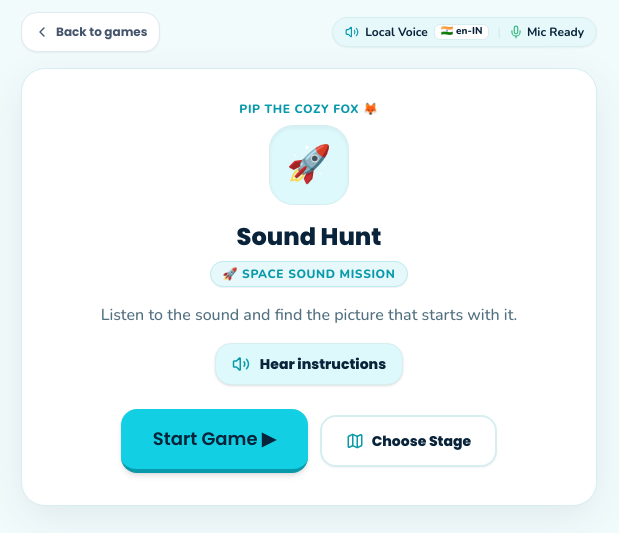
Test: Space Sound Mission (Sound Hunt) — 25-Level Game Suite › 5. selecting an incorrect answer shows retry feedback and does not award a point
Click the button "Start Game ▶".
click(214, 441)  # box [121,409,308,473]
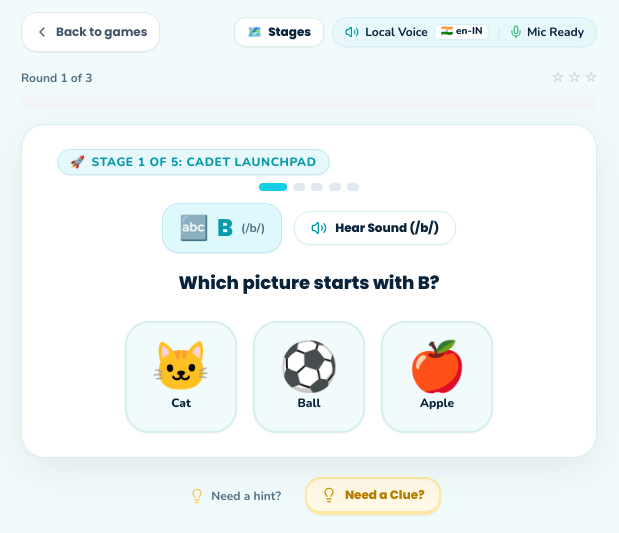
Note: Click the incorrect choice 'Cat'
Click the button labelled "🐱 Cat".
click(181, 377)  # box [125,321,237,433]
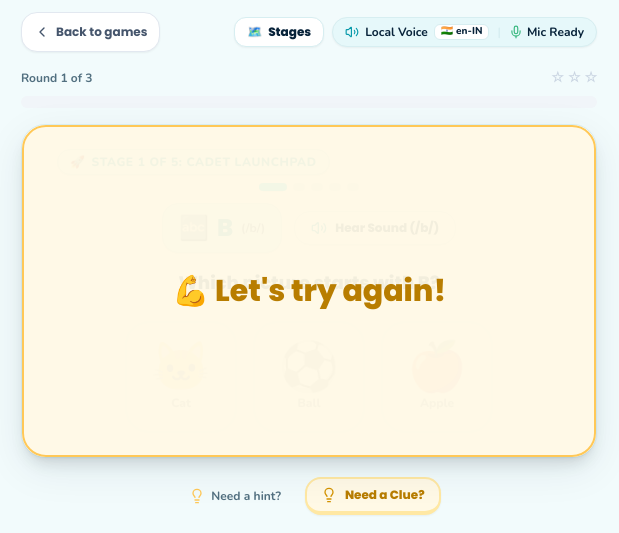
Check: the text "💪 Let's try again!" is shown, box [22,125,596,457]
Check: the text with test id "feedback-overlay" shows "Let's try again!", box [172,270,446,312]
